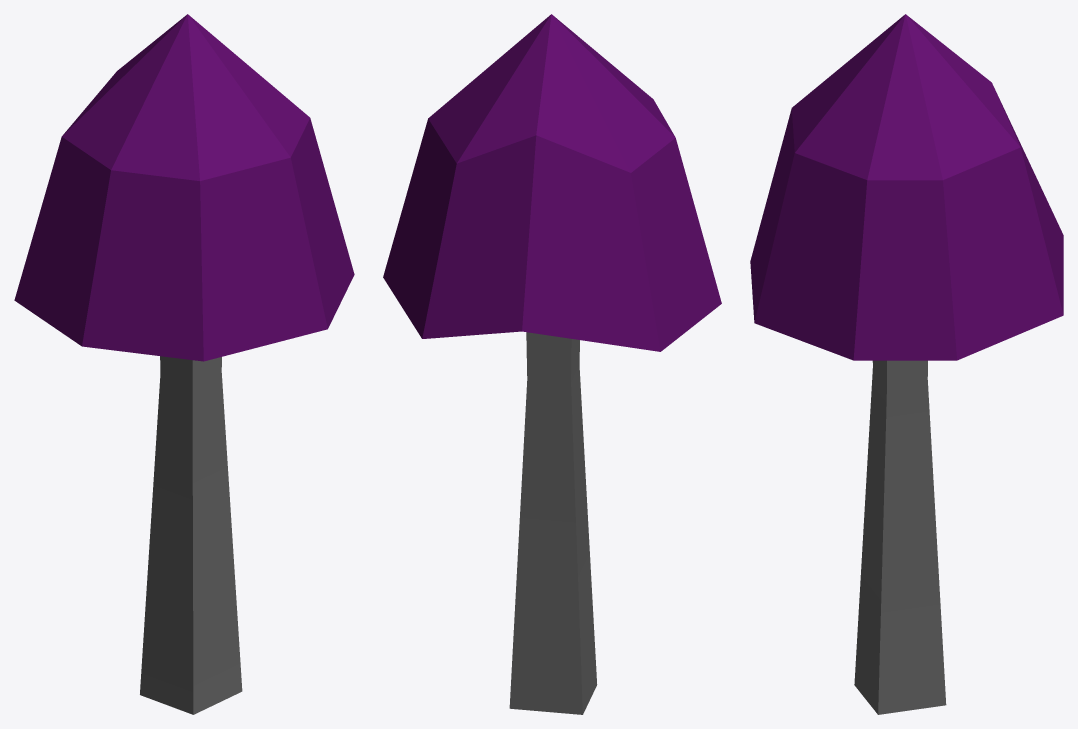
The model's file is Mushroom_Small_4.fbx.
3 views of the same model, side by side, from view 1: azimuth 30°, elevation 25°; view 2: azimuth 150°, elevation 25°; view 3: azimuth 270°, elevation 25° (orthographic).
Visible parts, largest first — view 1: Mushroom_Small_4; view 2: Mushroom_Small_4; view 3: Mushroom_Small_4.
Part boxes in pixels (x1=…): Mushroom_Small_4: x1=14, y1=14, x2=354, y2=714; Mushroom_Small_4: x1=383, y1=14, x2=721, y2=714; Mushroom_Small_4: x1=750, y1=14, x2=1063, y2=714.
Size of the model in its own units: 26.44 by 60.77 by 25.35.
